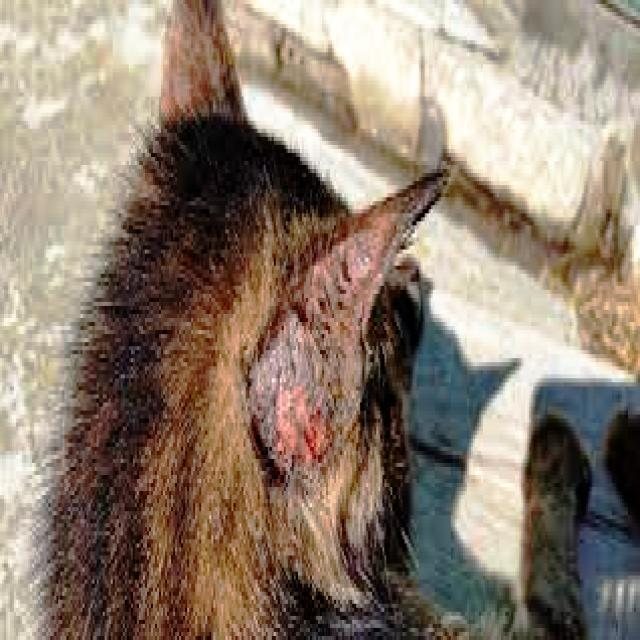ringworm: (253, 280, 348, 498)
